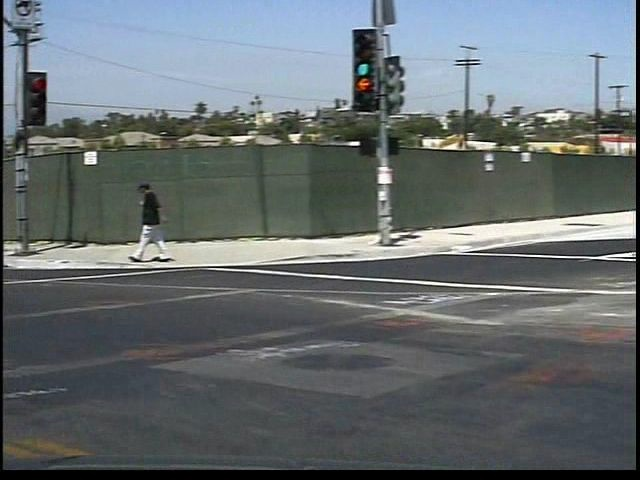person: (119, 177, 165, 279)
